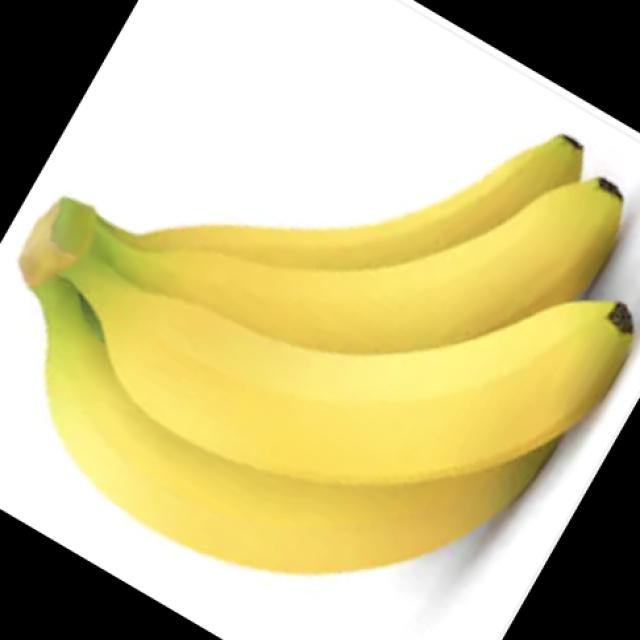god quality banana: (20, 137, 635, 572)
